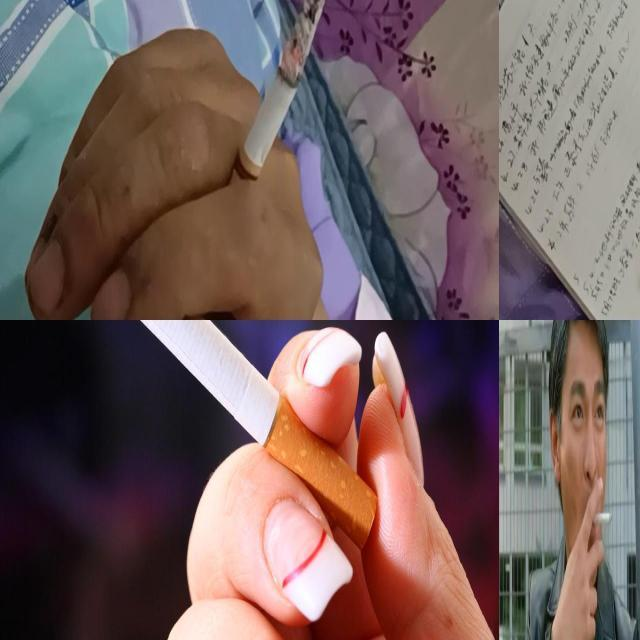smoking: (44, 320, 380, 552), (221, 0, 326, 234), (590, 512, 612, 526)
